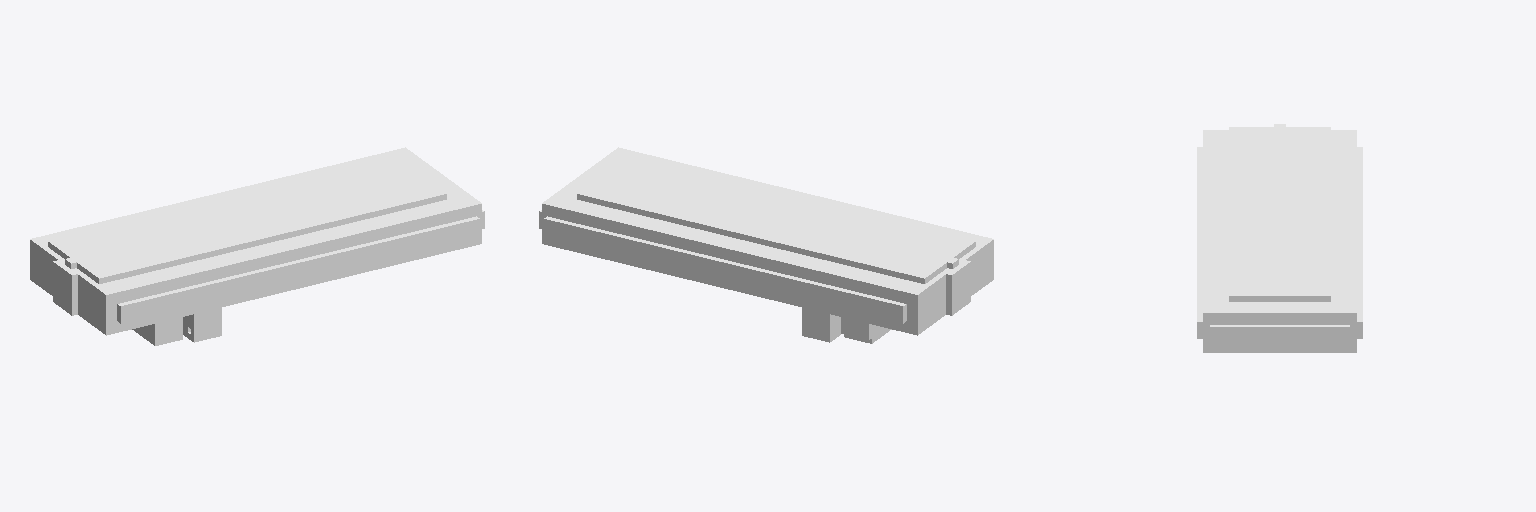
Rendered from dungeon.obj.
3 renders of one model, left to right at view 1: azimuth 30°, elevation 25°; view 2: azimuth 150°, elevation 25°; view 3: azimuth 270°, elevation 25°, orthographic.
Parts seen in each view (by area): view 1: dungeon; view 2: dungeon; view 3: dungeon.
Boxes of the visible parts, <box> form: dungeon: <box>30,147,484,345</box>; dungeon: <box>539,147,993,343</box>; dungeon: <box>1197,124,1362,352</box>.
Size of the model in its own units: 70 by 14 by 26.